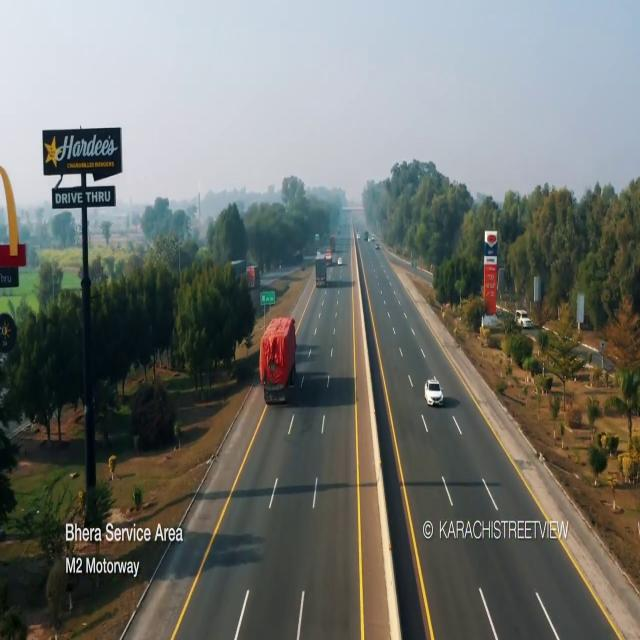car: (426, 382, 444, 408), (336, 256, 345, 266)
truck: (257, 302, 301, 409), (313, 248, 330, 290)
